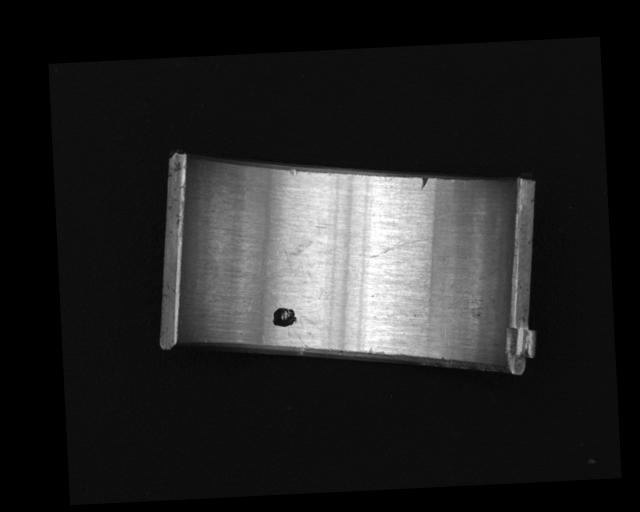blot: (262, 238, 316, 285), (271, 305, 298, 328)
bruise: (419, 176, 429, 190), (288, 167, 297, 175)
